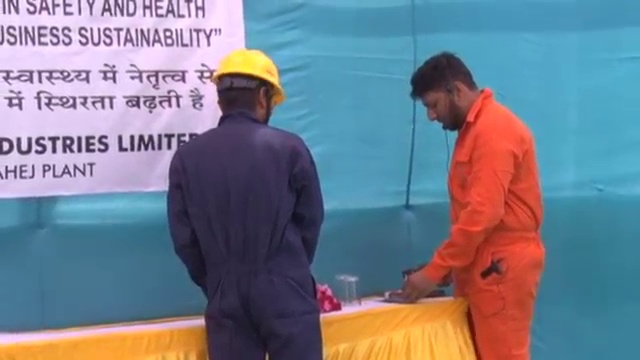helmet: (211, 48, 285, 104)
helmet_off: (410, 50, 477, 130)
helmet_on: (211, 48, 284, 123)
person: (167, 48, 326, 360), (391, 50, 548, 360)
